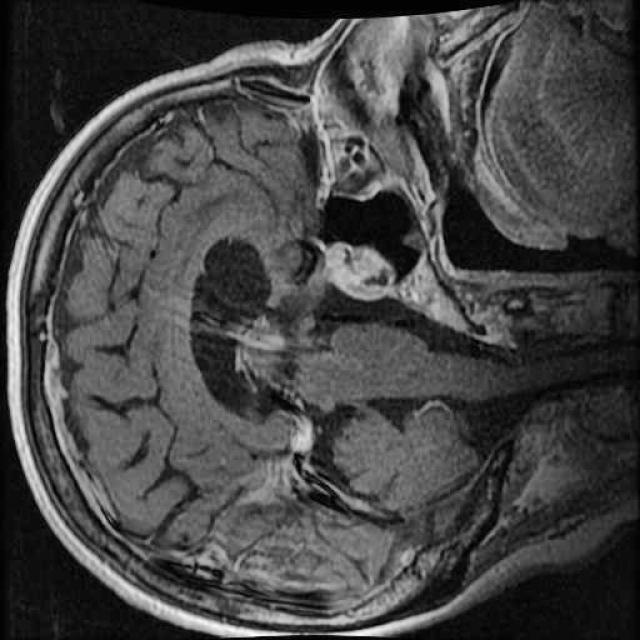Tumor: (302, 223, 411, 315)
